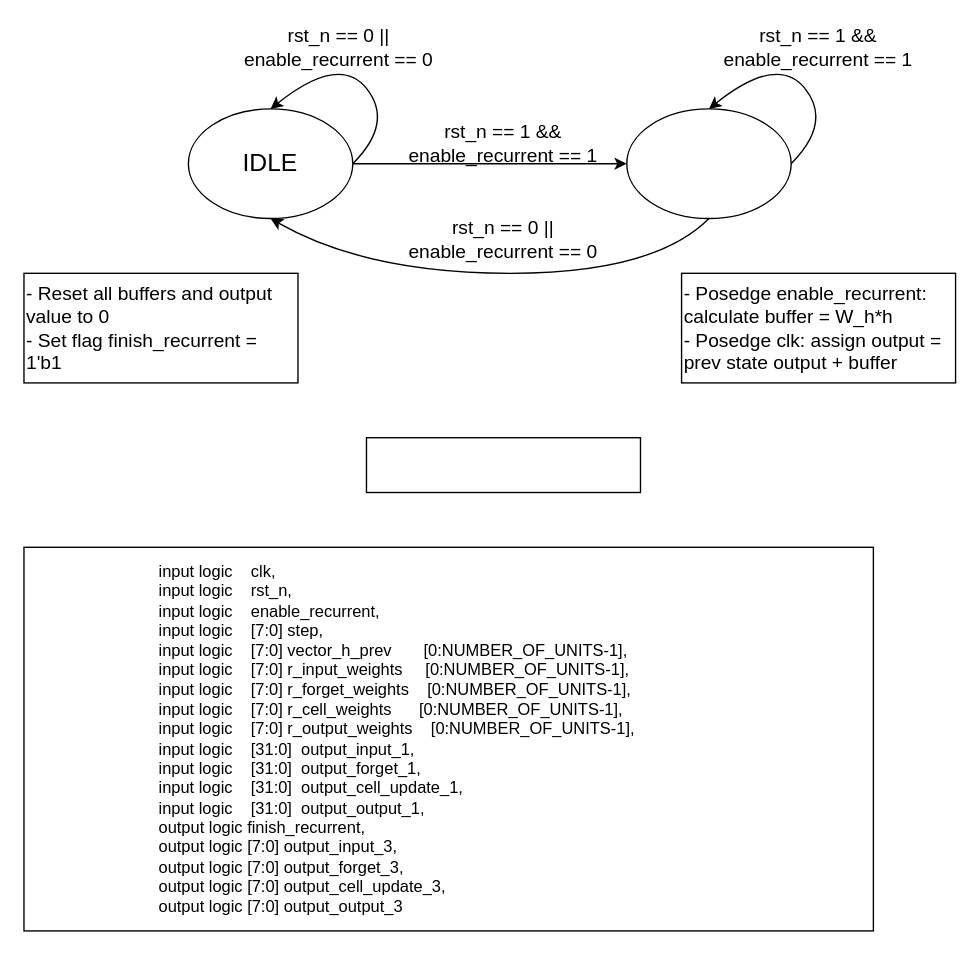
Image size: 980x955. Some labels were removed from this diagram. Here are the shapes that lost their labels. From the top down, the centre of each, then its label:
At [708,163]: "CAL".
At [502,464]: "assign output = tanh, sigmoid (32 bit => 8 bit)".
